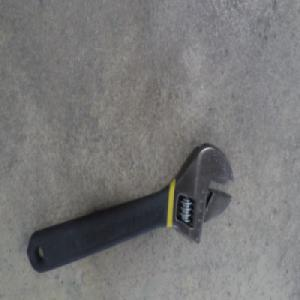AdjustableWrench: (26, 142, 237, 274)
